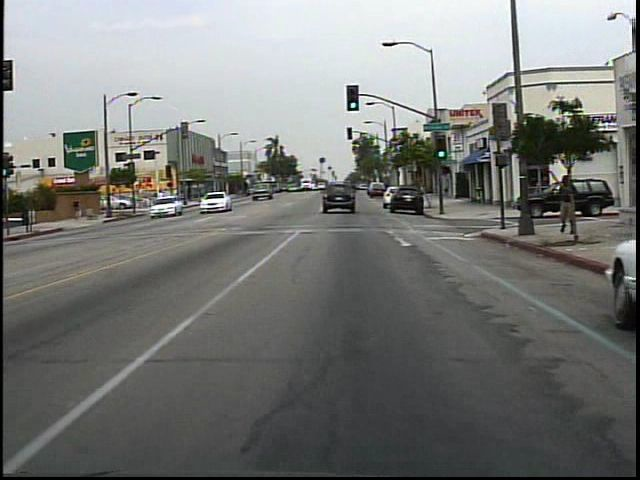person: (555, 169, 580, 242), (71, 192, 90, 221), (155, 185, 171, 209)
